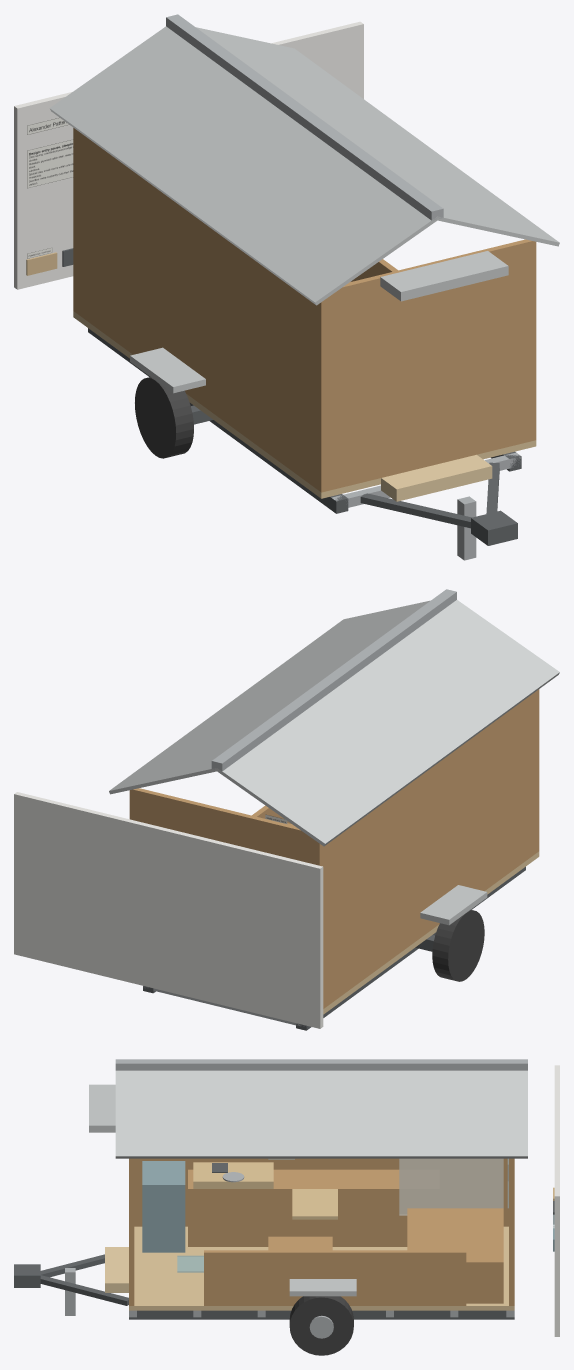
3 views of the same model, one above another, from view 1: azimuth 30°, elevation 25°; view 2: azimuth 150°, elevation 25°; view 3: azimuth 270°, elevation 25° (orthographic). The views are drawn at different scales.
Visible parts, largest first — view 1: left warm metal roof plane, left thick storage wall exterior, front wall with centered entry, right warm metal roof plane, Alexander Pattern-Language Cabin label board backing, ridge cap, left trailer wheel.003, front porch overhang, entry threshold step, 6x12 plywood trailer deck.004, left simple metal fender.003, Alexander Pattern-Language Cabin design logic label (+6 smaller); view 2: Alexander Pattern-Language Cabin label board backing, left warm metal roof plane, left thick storage wall exterior, right warm metal roof plane, rear sleeping nook wall, ridge cap, left trailer wheel.003, left simple metal fender.003, 6x12 plywood trailer deck.004, left steel frame rail.003; view 3: right warm metal roof plane, thick storage edge lower cabinets, cutaway right low wall, 6x12 plywood trailer deck.004, sleeping nook raised platform, canvas curtain defining sleeping nook, ridge cap, utility cabinet below entry shelf, right steel frame rail.003, right trailer wheel.003, left thick storage wall exterior, kitchenette in storage edge (+15 smaller).
Part boxes in pixels (x1,y1,x2,y2): left warm metal roof plane: [49, 26, 438, 305]; left thick storage wall exterior: [73, 130, 327, 492]; front wall with centered entry: [318, 239, 536, 492]; right warm metal roof plane: [196, 27, 559, 246]; Alexander Pattern-Language Cabin label board backing: [14, 21, 363, 289]; ridge cap: [166, 14, 443, 220]; left trailer wheel.003: [135, 377, 193, 458]; front porch overhang: [380, 251, 508, 301]; entry threshold step: [381, 454, 492, 501]; 6x12 plywood trailer deck.004: [73, 311, 536, 498]; left simple metal fender.003: [130, 347, 205, 393]; Alexander Pattern-Language Cabin design logic label: [27, 139, 73, 188]; Alexander Pattern-Language Cabin label board backing: [14, 792, 323, 1028]; left warm metal roof plane: [216, 600, 559, 846]; left thick storage wall exterior: [314, 689, 539, 1008]; right warm metal roof plane: [109, 600, 430, 794]; rear sleeping nook wall: [129, 788, 320, 865]; ridge cap: [211, 589, 456, 771]; left trailer wheel.003: [432, 909, 484, 981]; left simple metal fender.003: [420, 885, 487, 925]; 6x12 plywood trailer deck.004: [323, 851, 539, 1014]; left steel frame rail.003: [296, 866, 525, 1030]; right warm metal roof plane: [115, 1070, 527, 1158]; thick storage edge lower cabinets: [188, 1169, 407, 1246]; cutaway right low wall: [204, 1250, 466, 1305]; 6x12 plywood trailer deck.004: [129, 1226, 514, 1310]; sleeping nook raised platform: [407, 1208, 503, 1303]; canvas curtain defining sleeping nook: [399, 1158, 503, 1215]; ridge cap: [115, 1059, 527, 1070]; utility cabinet below entry shelf: [142, 1161, 185, 1252]; right steel frame rail.003: [129, 1310, 514, 1319]; right trailer wheel.003: [289, 1296, 353, 1355]; left thick storage wall exterior: [134, 1158, 508, 1226]; kitchenette in storage edge: [193, 1162, 273, 1188].
Size of the model in its own units: 3.07 by 2.64 by 5.18.
Materials: 25 (9 with a texture image).
